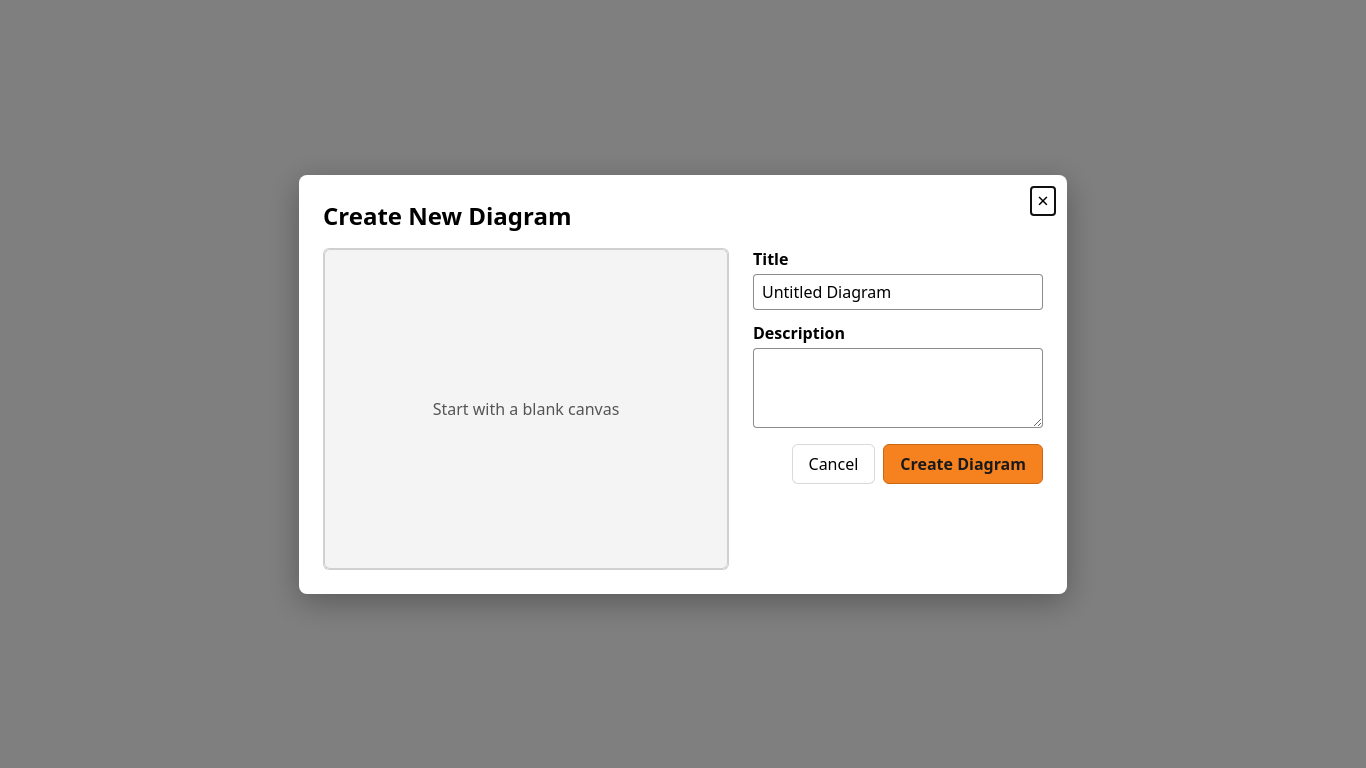
Test: CreateDiagramModal › shows an error and re-enables the button when creation fails
Click the button "Create Diagram". click: [963, 464]
box: [883,444,1043,484]
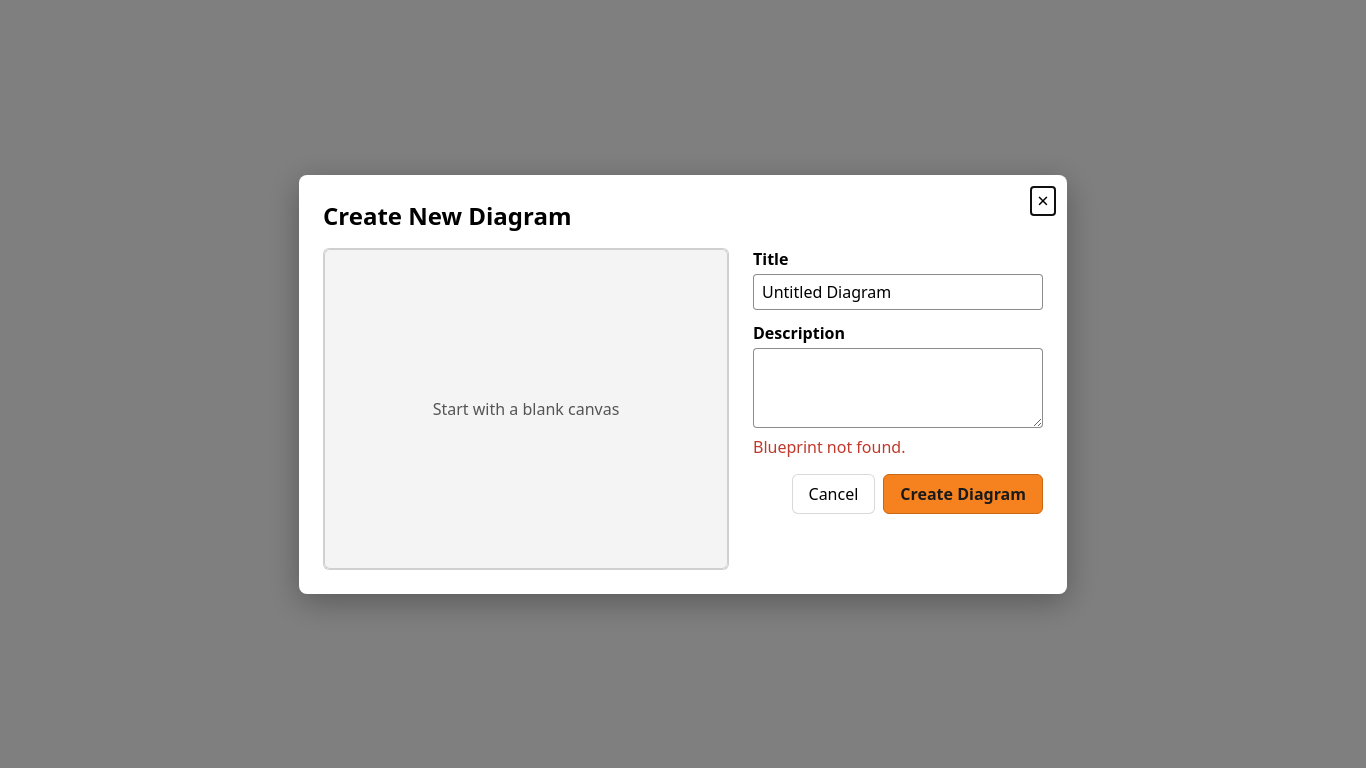
Expected: the button "Create Diagram" is enabled, [883,474,1043,514]
Expected: the message reads "Blueprint not found.", [753,436,905,458]
